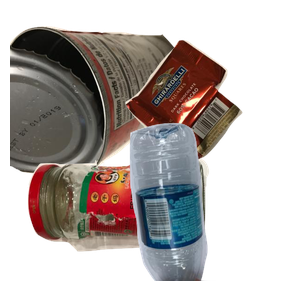glass: (25, 155, 227, 300)
metal: (10, 23, 193, 194)
plastic: (127, 120, 300, 300)
trash: (123, 37, 300, 192)
